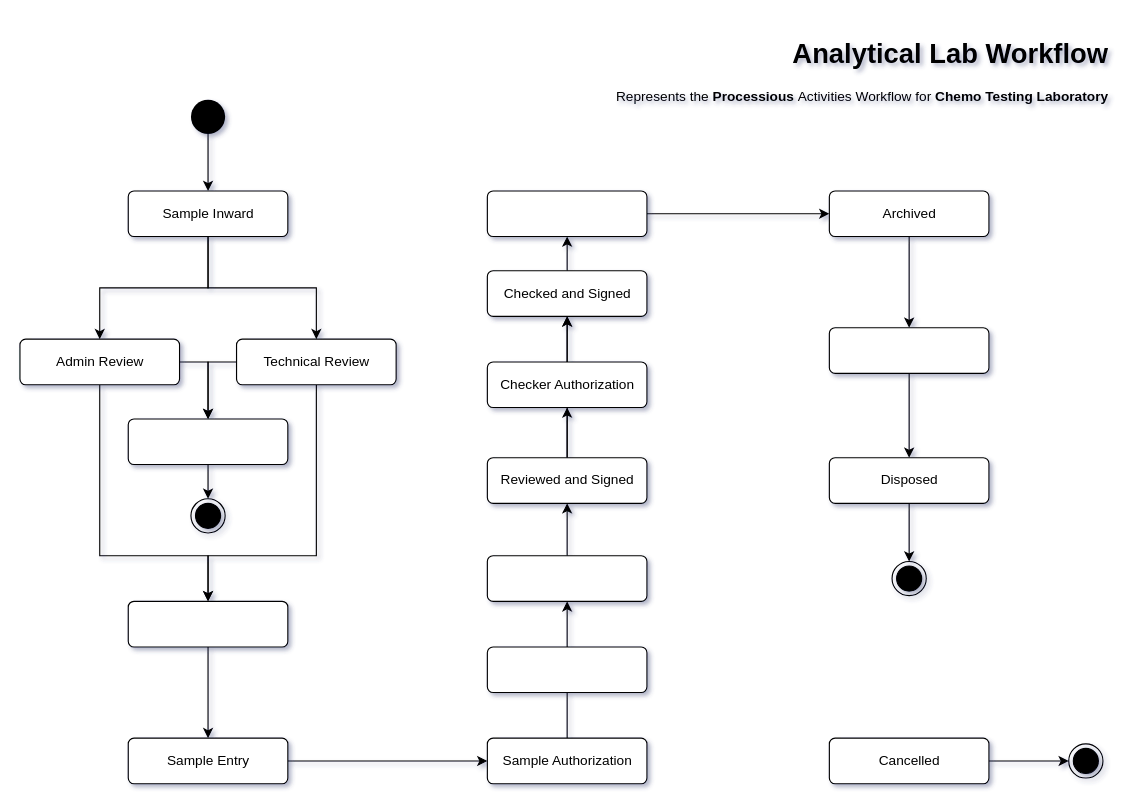
Image size: 1141x811. Some labels were removed from this diagram. The shapes that lost their labels are listed below. From the top down, each one's box as (x1, y1, x2, y2) in pixels, then its label:
(486, 190, 647, 237): Dispatched
(828, 327, 989, 373): Obsolete
(127, 418, 288, 465): Rejected
(486, 555, 647, 601): WIP / Analysis
(127, 600, 288, 647): Accepted
(486, 646, 647, 693): Analyst Allocation
